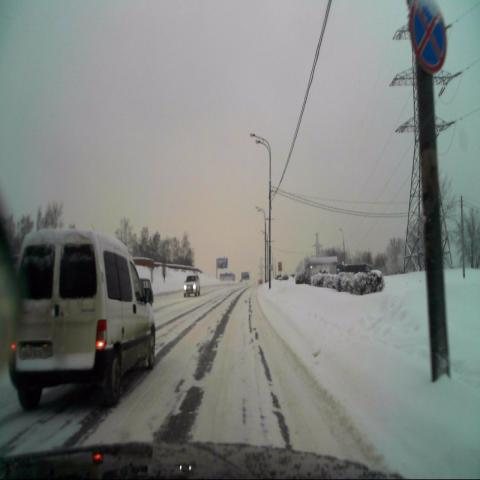3_27: (408, 0, 451, 74)
